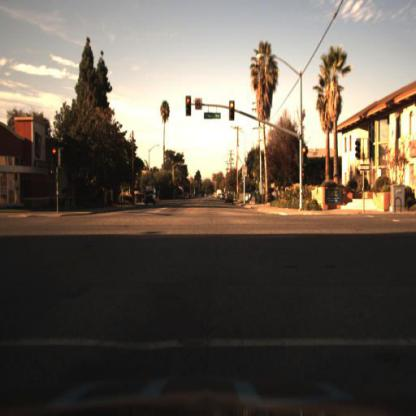car: (143, 183, 160, 210), (224, 191, 237, 208)
pedestrian: (62, 184, 72, 219)
trafficLight-Red: (230, 96, 240, 124), (301, 143, 309, 171)
trafficLight-RedLeft: (183, 96, 194, 120), (51, 145, 61, 171)
